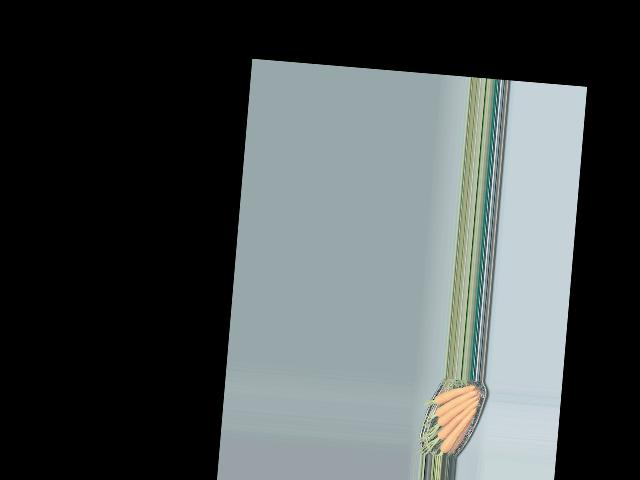carrot: (434, 381, 475, 404)
